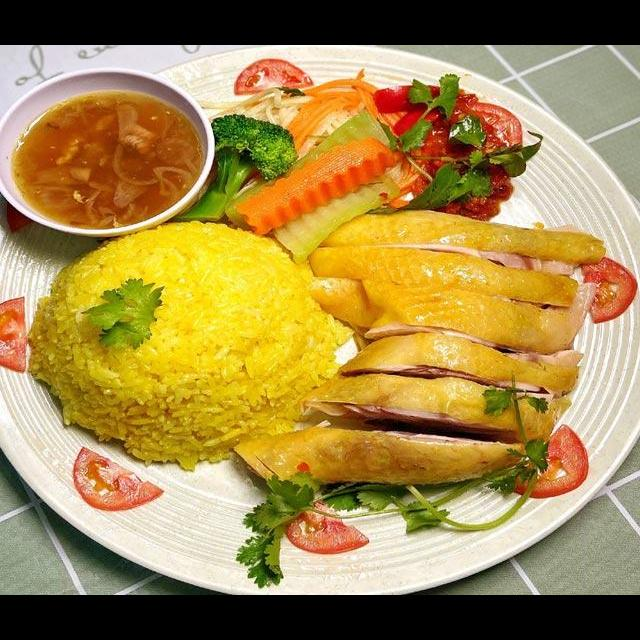com: (20, 217, 358, 476)
com ga: (0, 109, 609, 595)
rau ram: (363, 113, 548, 218)
thit ga: (302, 202, 610, 360), (298, 328, 588, 448), (227, 421, 537, 503)
